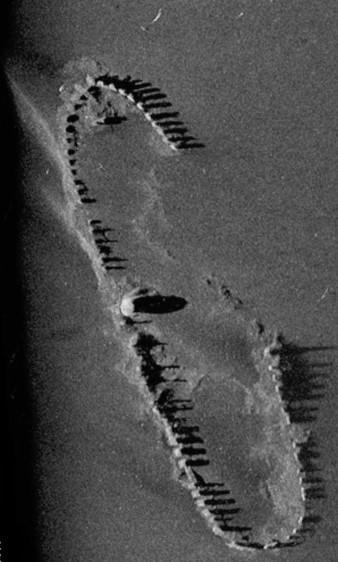ship: (63, 73, 309, 553)
